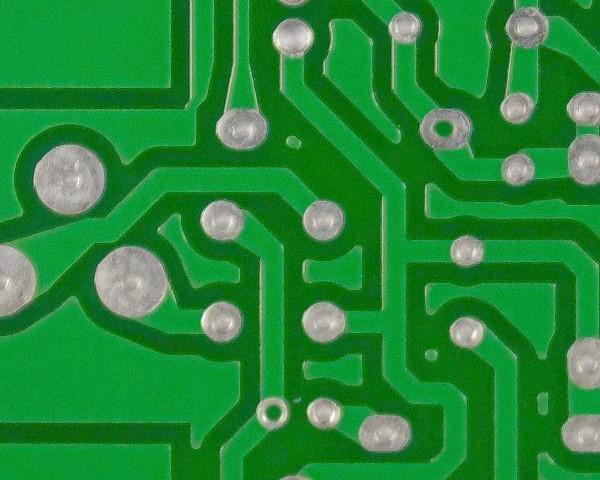missing hole: (414, 102, 478, 151), (251, 394, 296, 434)
